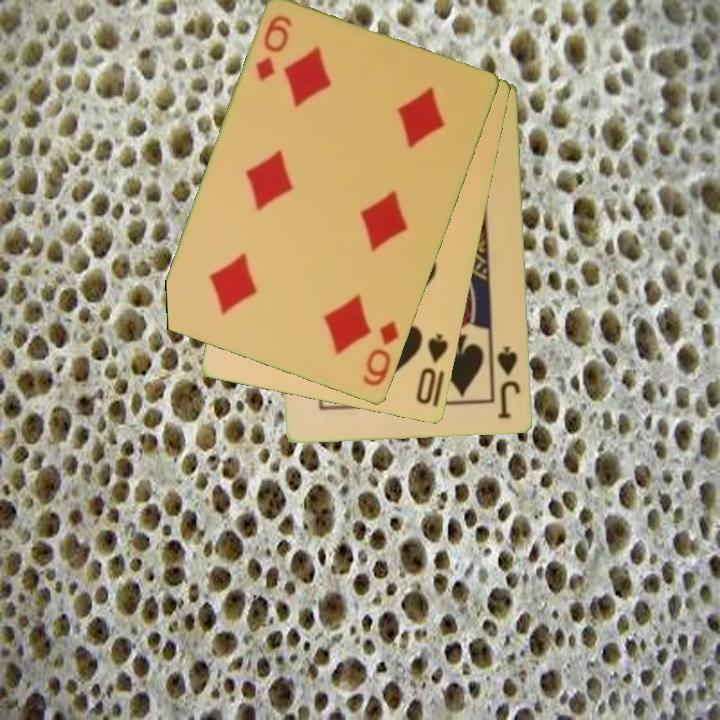10s: (413, 331, 452, 408)
6d: (252, 12, 296, 85), (359, 318, 402, 390)
Js: (494, 343, 524, 422)
